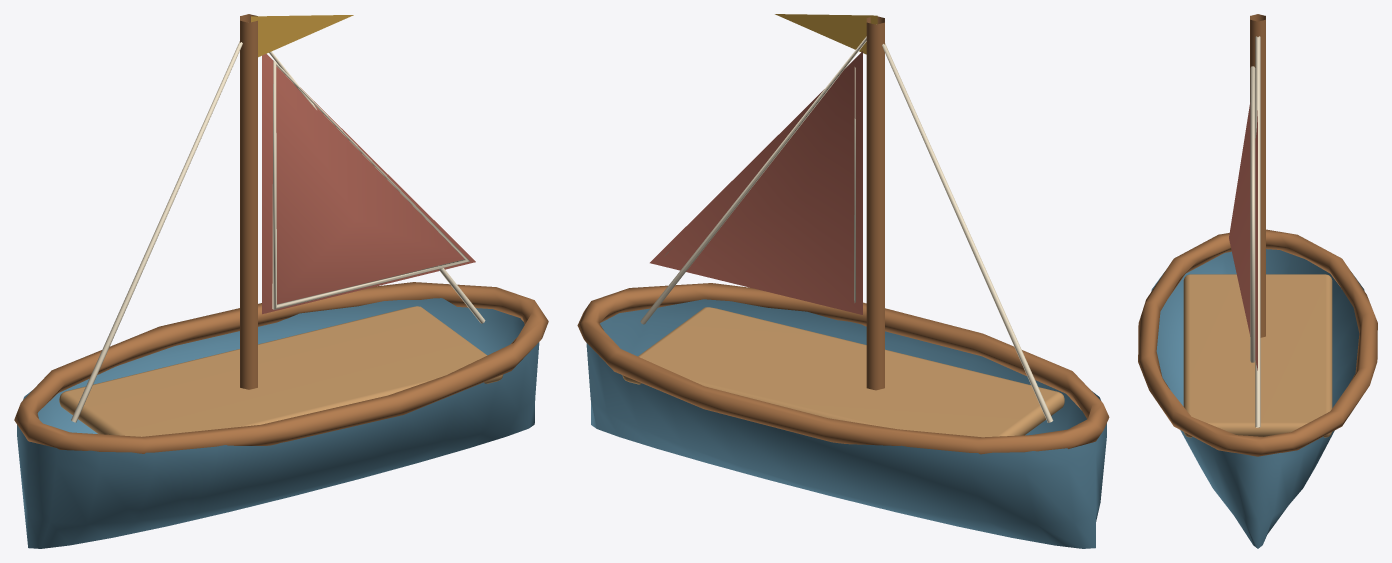
Rendered from boat.glb.
3 views of the same model, side by side, from view 1: azimuth 30°, elevation 25°; view 2: azimuth 150°, elevation 25°; view 3: azimuth 270°, elevation 25° (orthographic). The views are drawn at different scales.
Parts seen in each view (by area): view 1: Crafted_blue, Crafted_wood, Crafted_wood_light, Crafted_coral, Crafted_cream, Crafted_gold; view 2: Crafted_blue, Crafted_wood, Crafted_wood_light, Crafted_coral, Crafted_cream, Crafted_gold; view 3: Crafted_wood_light, Crafted_wood, Crafted_blue, Crafted_coral, Crafted_cream.
Part boxes in pixels (bbox=[...]): Crafted_blue: bbox=[17, 298, 539, 548]; Crafted_wood: bbox=[14, 14, 548, 453]; Crafted_wood_light: bbox=[59, 306, 503, 436]; Crafted_coral: bbox=[262, 54, 475, 314]; Crafted_cream: bbox=[71, 41, 485, 422]; Crafted_gold: bbox=[251, 15, 353, 57]; Crafted_blue: bbox=[586, 299, 1106, 548]; Crafted_wood: bbox=[577, 16, 1109, 454]; Crafted_wood_light: bbox=[622, 307, 1064, 437]; Crafted_coral: bbox=[650, 51, 862, 314]; Crafted_cream: bbox=[640, 36, 1053, 422]; Crafted_gold: bbox=[775, 14, 877, 54]; Crafted_wood_light: bbox=[1183, 274, 1332, 437]; Crafted_wood: bbox=[1138, 14, 1377, 456]; Crafted_blue: bbox=[1151, 249, 1364, 548]; Crafted_coral: bbox=[1229, 102, 1257, 370]; Crafted_cream: bbox=[1250, 36, 1260, 427].
Bounding box in the file's own units: 0.7903 × 0.705 × 0.3704.
